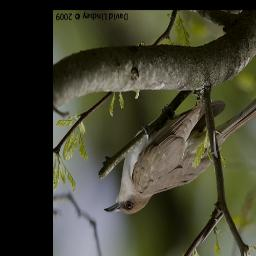Cuckoo: (106, 78, 256, 217)
